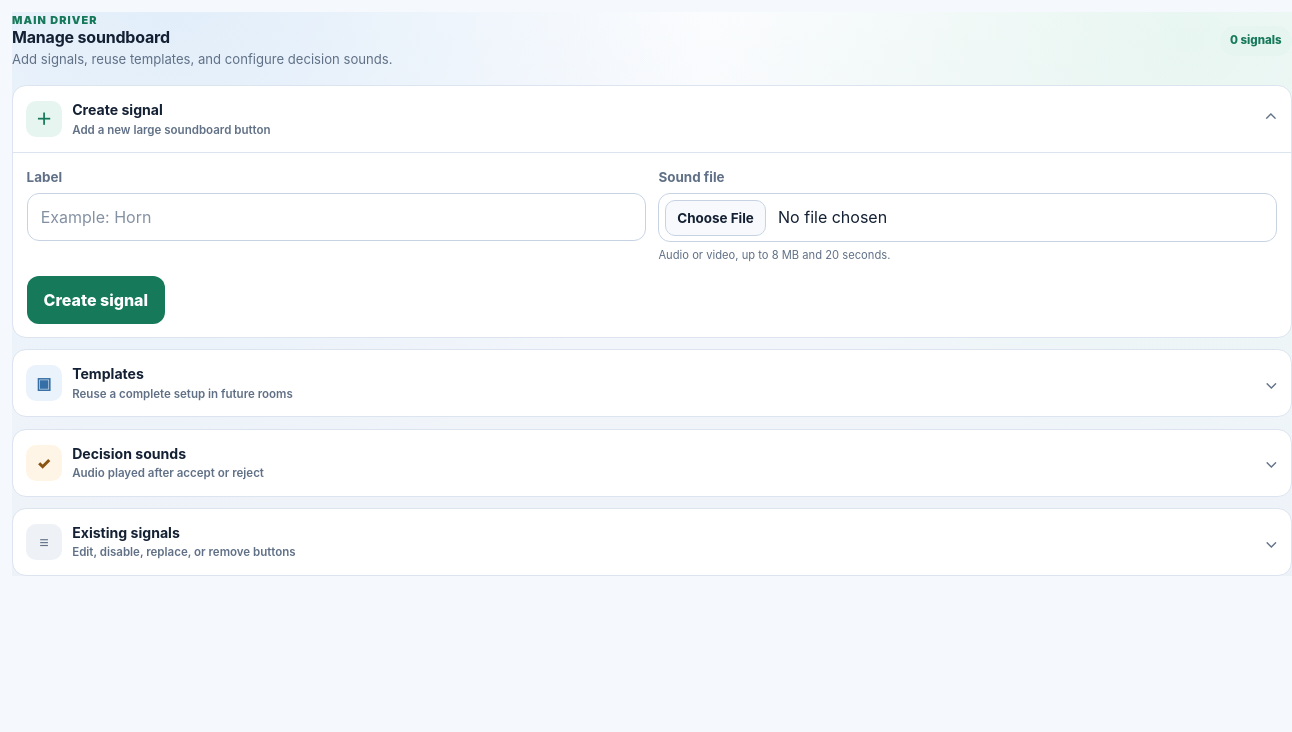
Test: MainDriverPanel › validates create button inputs
The width and height of the screenshot is (1292, 732).
Click the button "Create signal" at (96, 300), box [27,276,165,324]
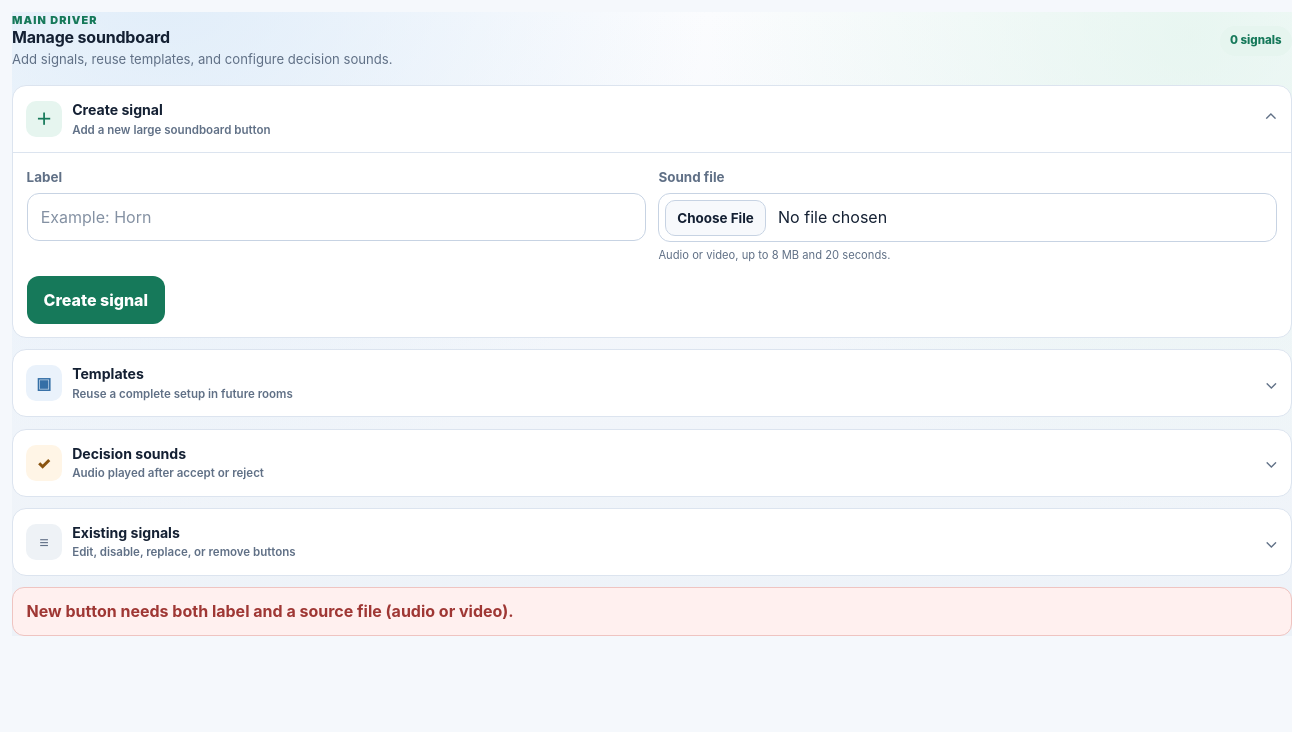
Check: the text "New button needs both label and a source file (audio or video)." is shown, box [12,587,1291,636]
